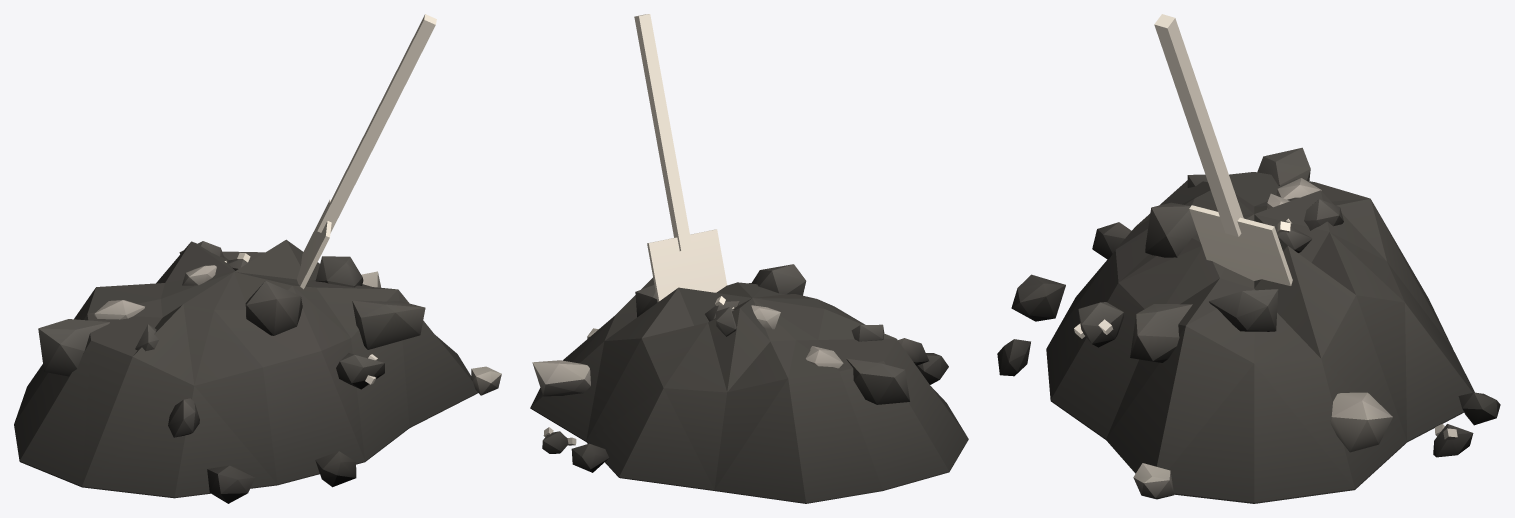
Rendered from SM_VKI_Prop_Mine_OrePile.fbx.
The picture shows the model from 3 angles, left to right: view 1: azimuth 30°, elevation 25°; view 2: azimuth 150°, elevation 25°; view 3: azimuth 270°, elevation 25°; orthographic projection. The views are drawn at different scales.
Visible parts, largest first — view 1: SM_VKI_Prop_Mine_OrePile.001; view 2: SM_VKI_Prop_Mine_OrePile.001; view 3: SM_VKI_Prop_Mine_OrePile.001.
Boxes of the visible parts, x1=… form: SM_VKI_Prop_Mine_OrePile.001: x1=14, y1=14, x2=501, y2=503; SM_VKI_Prop_Mine_OrePile.001: x1=530, y1=14, x2=968, y2=503; SM_VKI_Prop_Mine_OrePile.001: x1=997, y1=14, x2=1500, y2=503.
Bounding box in the file's own units: 1.33 × 1.11 × 1.13.
